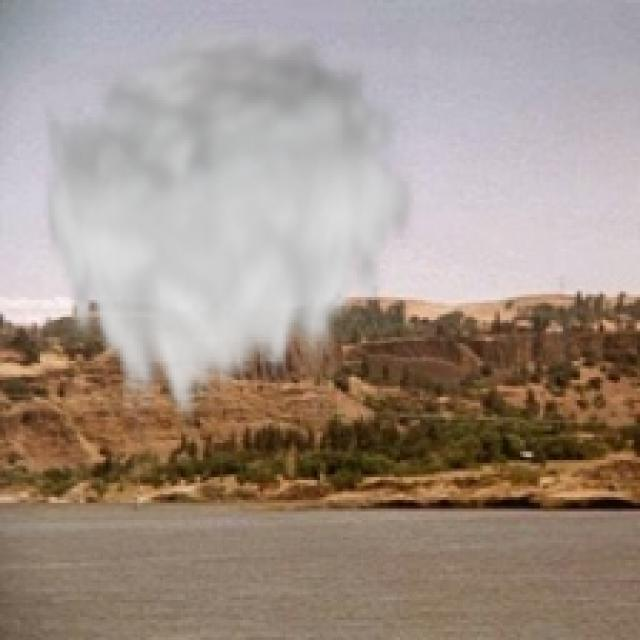Smoke: (40, 12, 420, 437)
